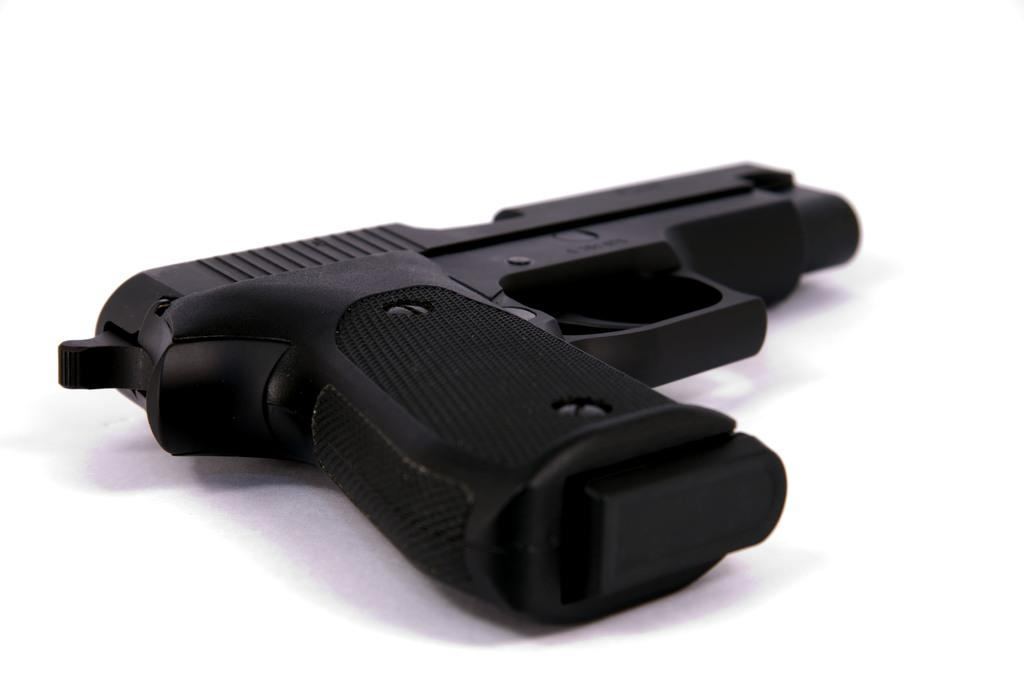Handgun: (50, 156, 871, 635)
